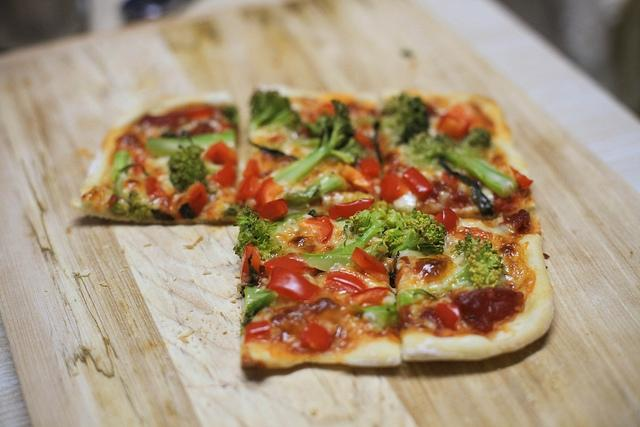broccoli: (274, 99, 368, 190), (405, 128, 517, 198), (322, 200, 389, 254), (247, 89, 302, 150), (232, 204, 288, 262), (454, 232, 506, 290), (392, 210, 447, 257), (382, 92, 428, 148), (146, 130, 238, 158), (166, 145, 216, 196), (240, 286, 279, 327), (352, 305, 400, 330), (128, 202, 152, 222)
tomato: (264, 265, 322, 302), (262, 256, 318, 278), (402, 168, 434, 201), (328, 198, 374, 220), (379, 170, 408, 204), (350, 247, 386, 274), (300, 322, 332, 351), (256, 176, 284, 209), (348, 286, 392, 306), (304, 216, 334, 245), (327, 271, 368, 292), (205, 141, 237, 166), (435, 113, 468, 137), (186, 181, 208, 217), (208, 161, 236, 187), (242, 320, 272, 344), (256, 199, 290, 220), (234, 174, 258, 203), (436, 302, 459, 331), (434, 208, 460, 233), (184, 105, 218, 123), (358, 157, 381, 181), (511, 167, 534, 190), (354, 124, 374, 150), (244, 159, 261, 178), (144, 178, 158, 195)
